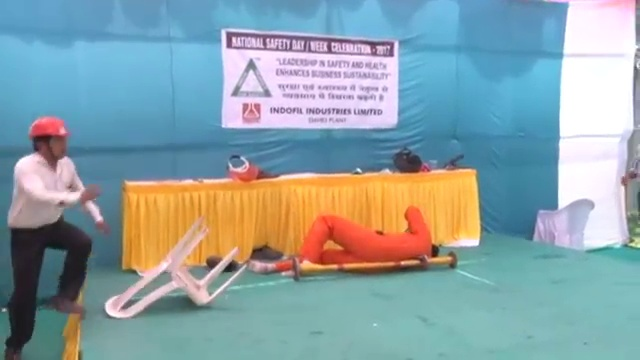helmet: (27, 114, 72, 140)
helmet_on: (26, 115, 70, 164)
person: (2, 115, 103, 360), (245, 205, 440, 275)
